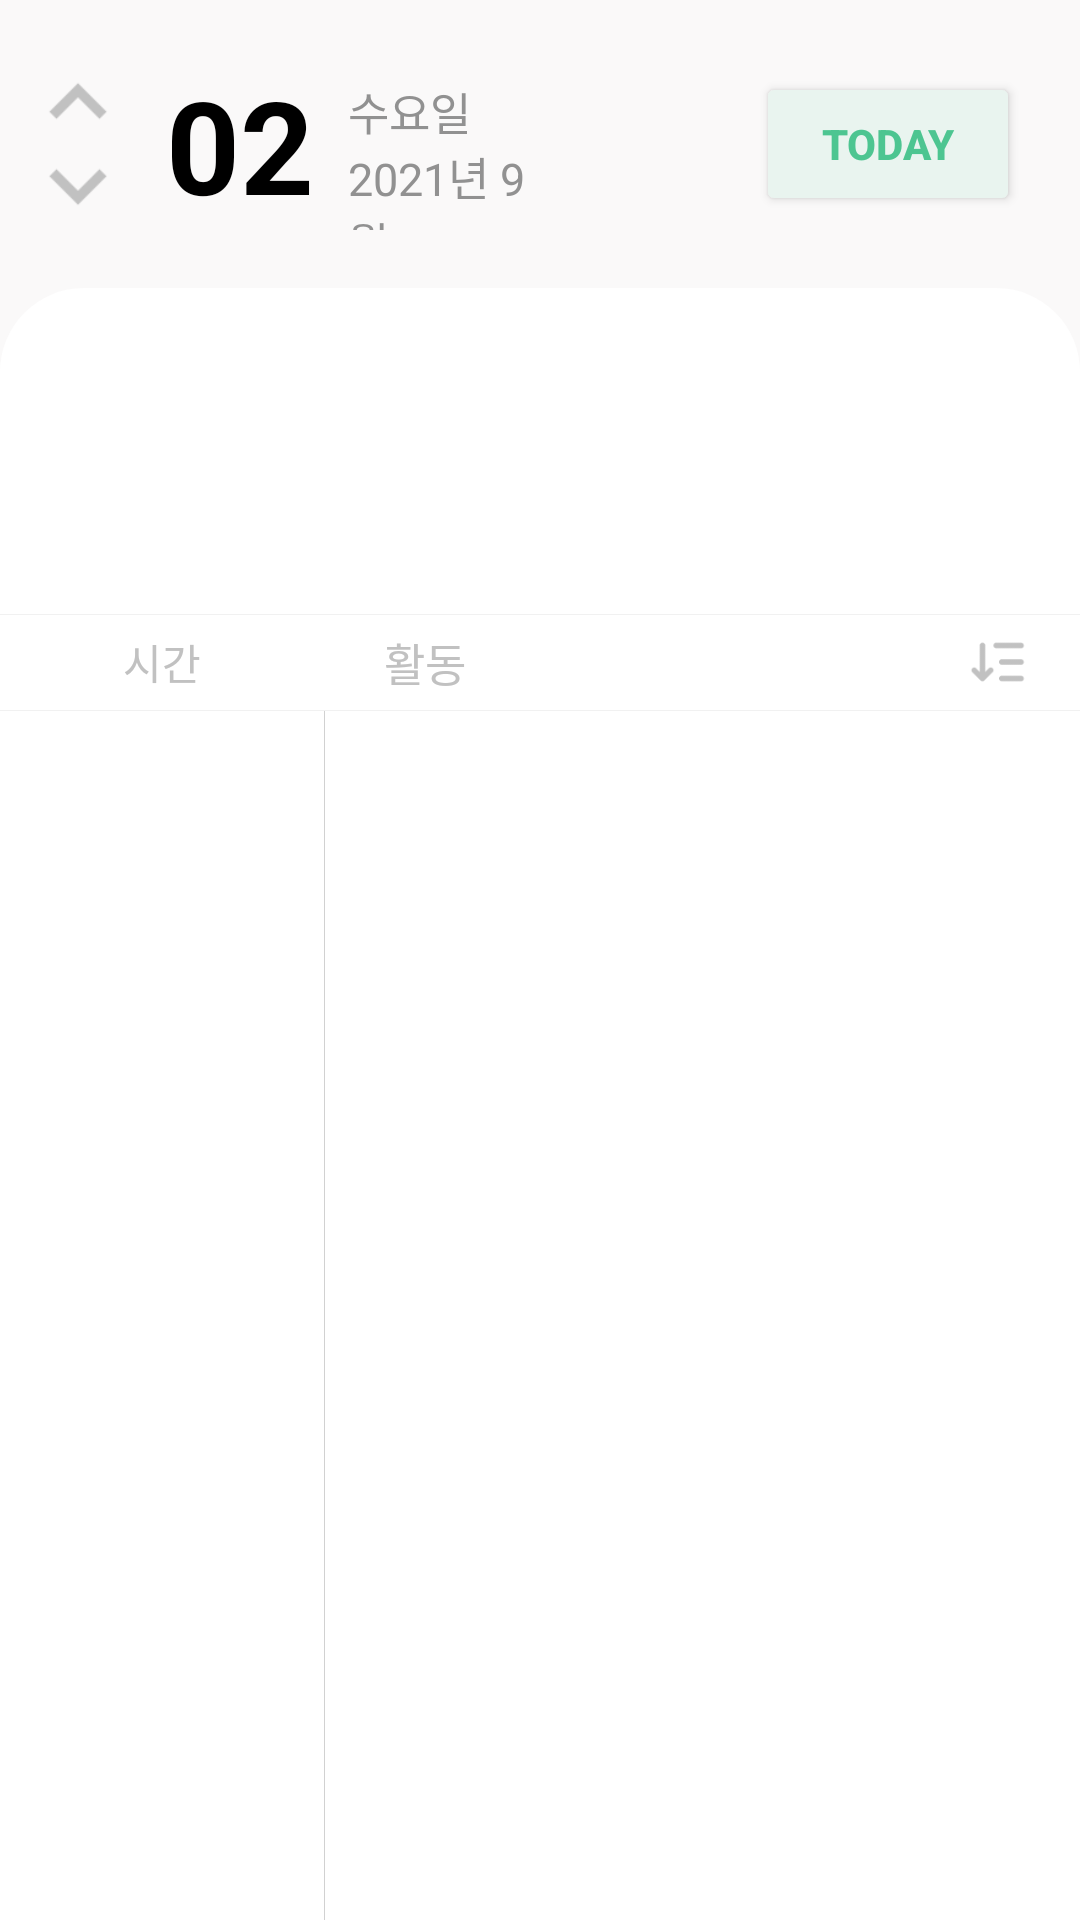

Point at icon controls on the screen. Image size 1080×1920, points as [x,y].
arrow down: [78,186]
arrow up: [78,101]
desc: [998,662]
